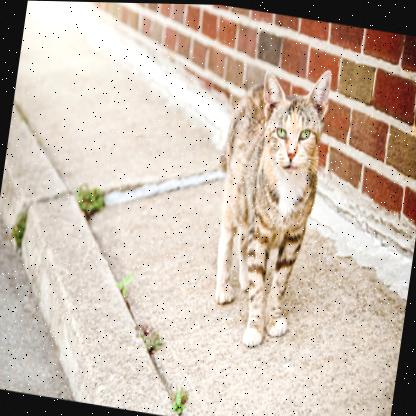cat: (201, 53, 335, 316)
